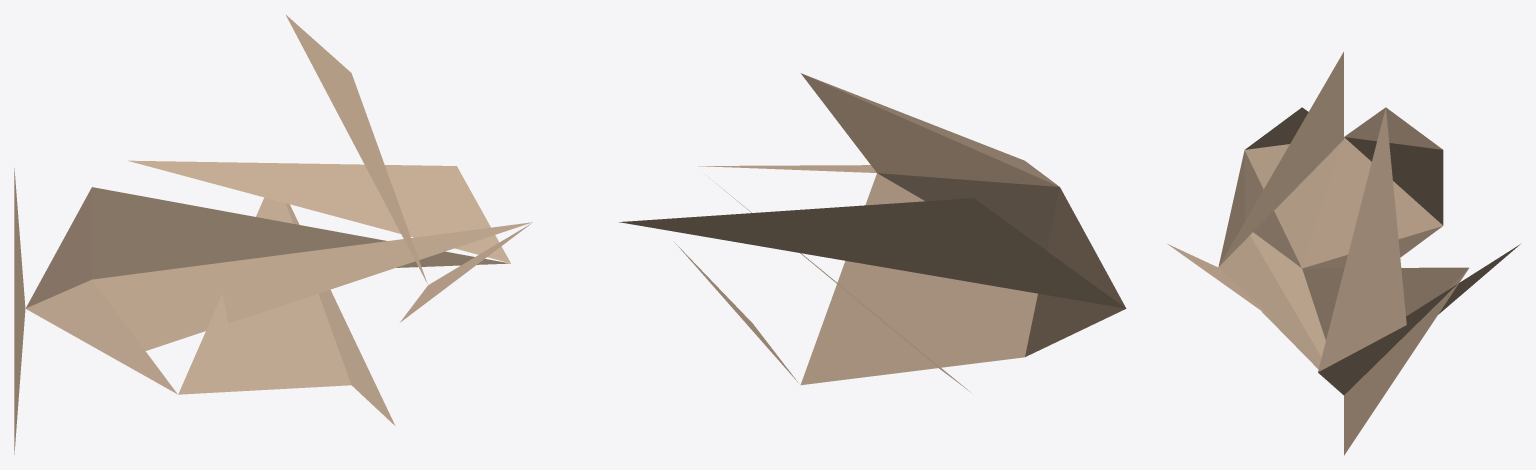
The model's file is camotillo.glb.
3 views of the same model, side by side, from view 1: azimuth 30°, elevation 25°; view 2: azimuth 150°, elevation 25°; view 3: azimuth 270°, elevation 25° (orthographic). The views are drawn at different scales.
Parts seen in each view (by area): view 1: camotillo; view 2: camotillo; view 3: camotillo.
Boxes of the visible parts, x1,y1,x2,y2 form: camotillo: (14, 15, 532, 454); camotillo: (619, 73, 1126, 392); camotillo: (1167, 52, 1521, 455).
Size of the model in its own units: 0.99 by 0.76 by 0.68.
